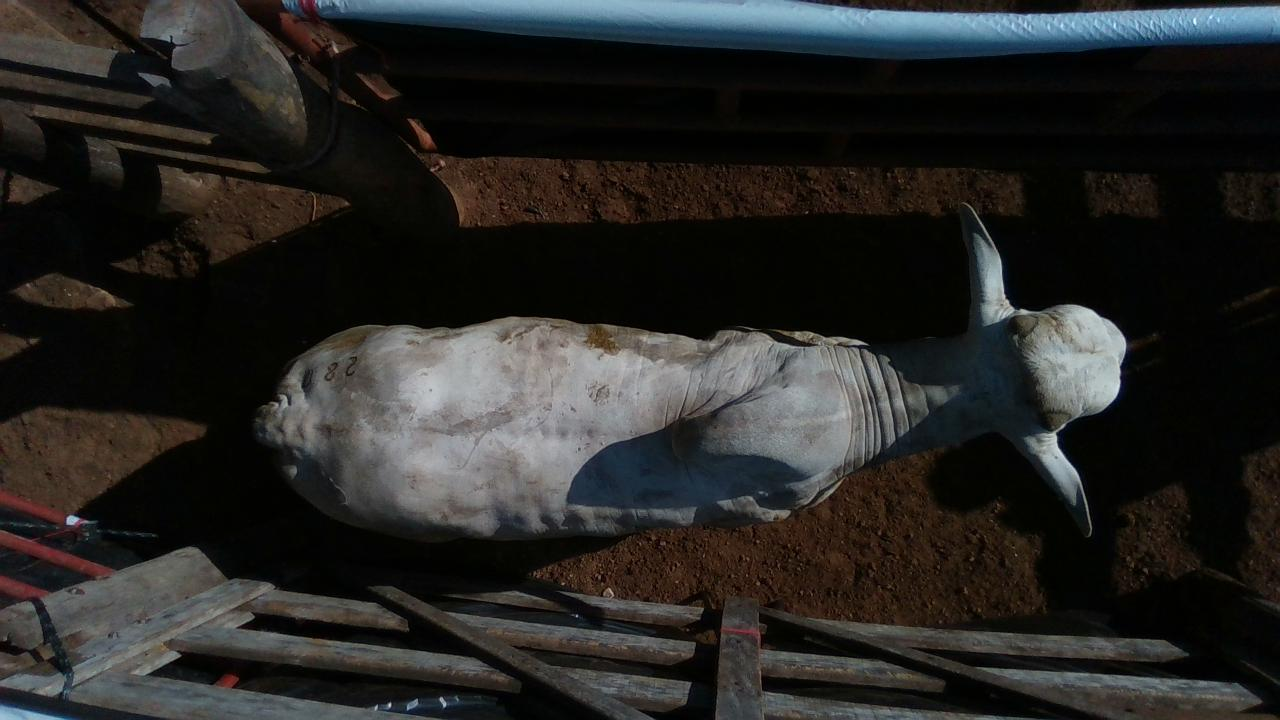cattle: (250, 200, 1128, 544)
